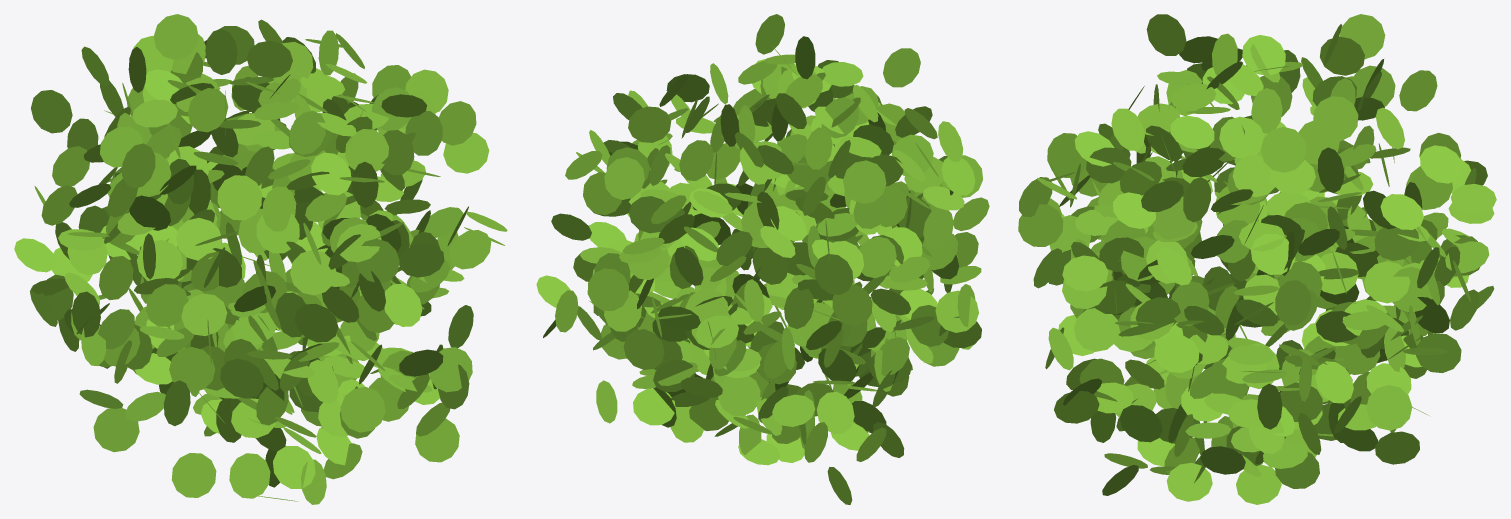
File: Buisson2.fbx
3 renders of one model, left to right at view 1: azimuth 30°, elevation 25°; view 2: azimuth 150°, elevation 25°; view 3: azimuth 270°, elevation 25°, orthographic. The views are drawn at different scales.
Visible parts, largest first — view 1: Buisson_02; view 2: Buisson_02; view 3: Buisson_02.
Part boxes in pixels (bbox=[...]): Buisson_02: bbox=[14, 14, 507, 504]; Buisson_02: bbox=[536, 14, 989, 504]; Buisson_02: bbox=[1018, 14, 1496, 504].
Bounding box in the file's own units: 6.22 × 6.26 × 6.21.
